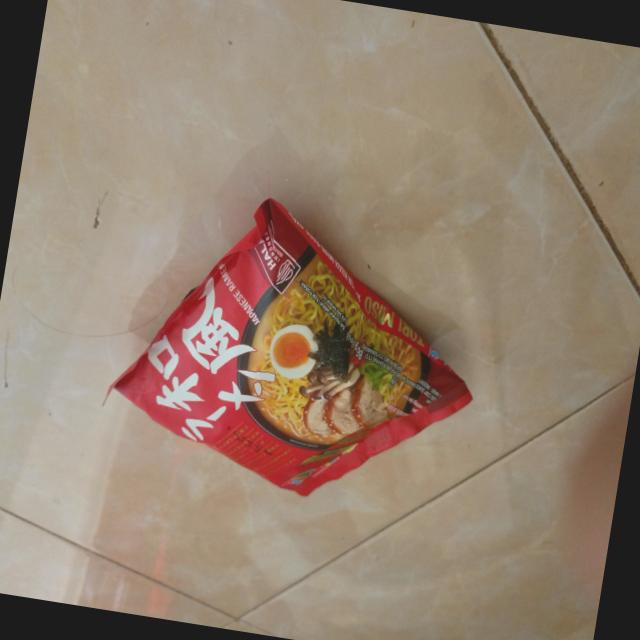indomie-tori-miso: (89, 174, 498, 524)
